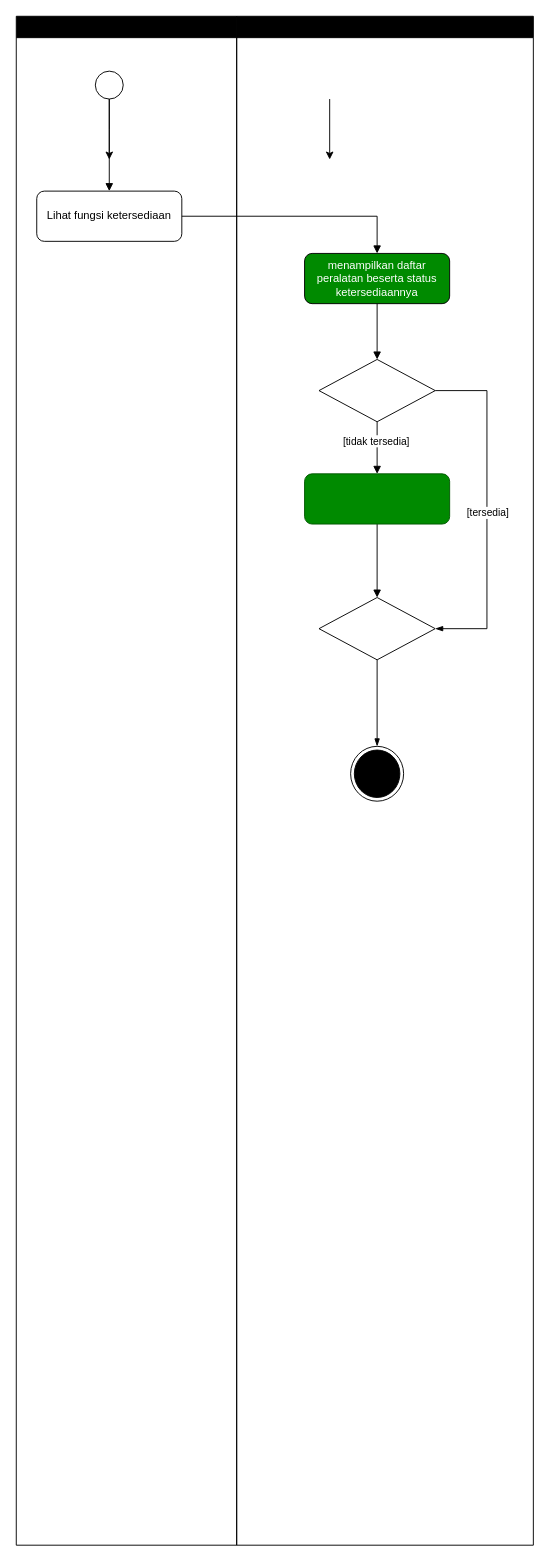
Some shapes in this 550 by 1561 pixel diagram are drawn without their labels. Here are the shapes that lost their labels. From the top down, the centre of each, then its label:
point (376, 390): Peralatan tersedia?
point (377, 498): menampilan pesan tidak ada peralatan yang tersedia
